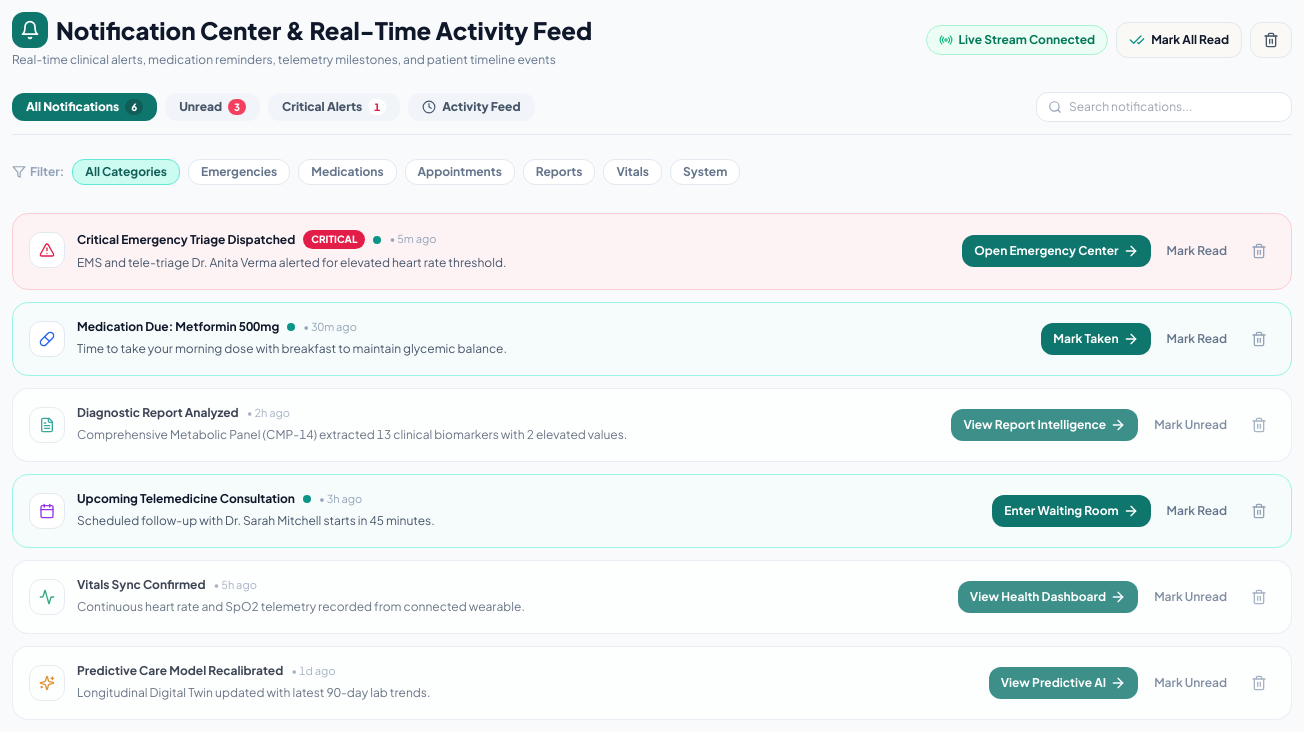
Test case: F30 — Notifications Center UI › switches to Activity Feed view and renders chronological events
Step 1. Click the button "Activity Feed" → (471, 107), box [408,93,534,121]
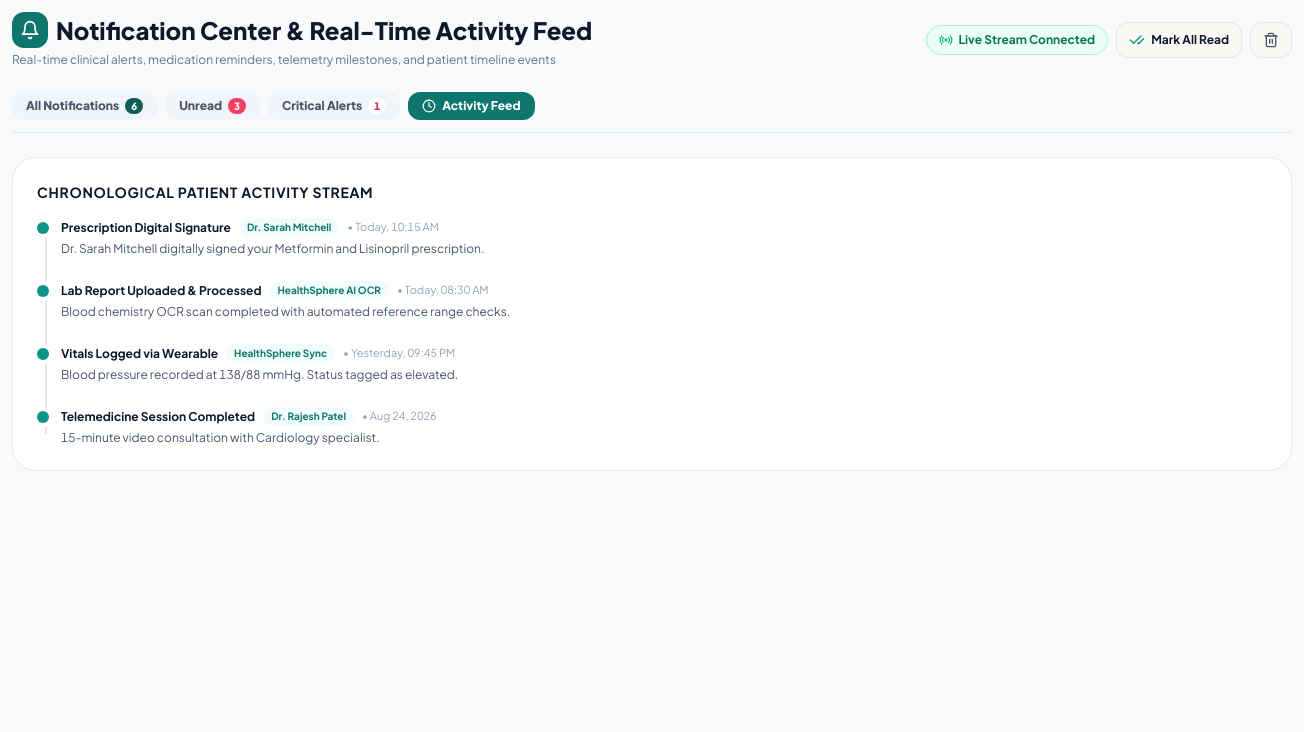
expect the element with test id "activity-feed-section" is shown: met, box [12,157,1292,471]
expect the heading "Chronological Patient Activity Stream" is shown: met, box [37,183,373,201]
expect the heading "Prescription Digital Signature" is shown: met, box [61,220,231,236]
